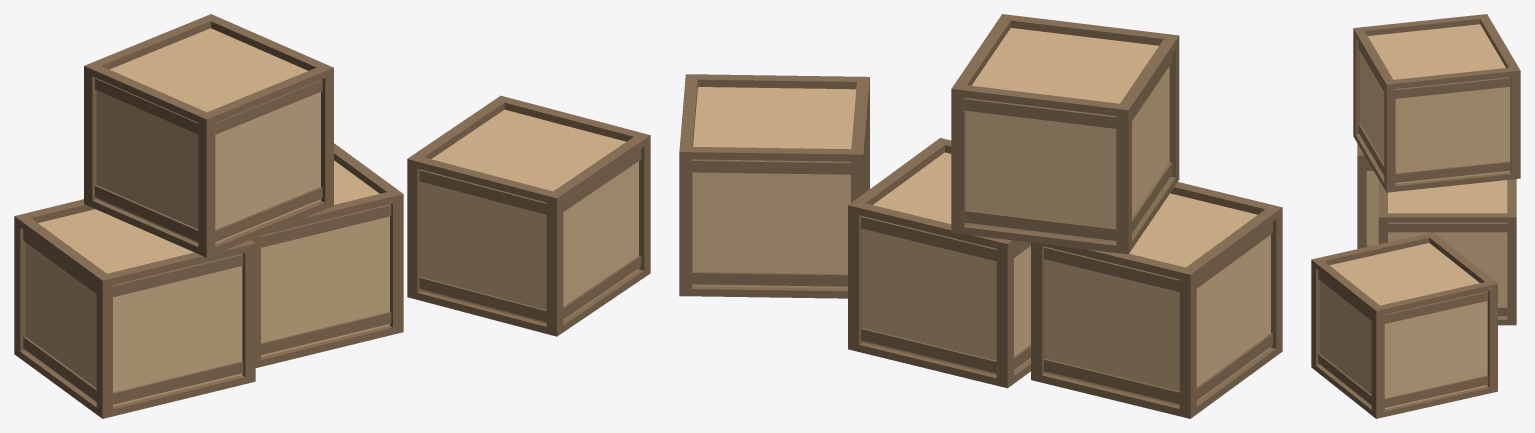
The model's file is grotto_crate_pile_of_4.fbx.
The picture shows the model from 3 angles, left to right: view 1: azimuth 30°, elevation 25°; view 2: azimuth 150°, elevation 25°; view 3: azimuth 270°, elevation 25°; orthographic projection. The views are drawn at different scales.
Visible parts, largest first — view 1: Crate_Wood.002, Crate_Wood.003, Crate_Wood, Crate_Wood.001, Crate_CornerPost_3.002, Crate_CornerPost_3.003, Crate_CornerPost_3, Crate_CornerPost_1.001, Crate_CornerPost_2.003, Crate_CornerPost_1, Crate_CornerPost_1.002, Crate_TopFrame.015 (+37 smaller); view 2: Crate_Wood.002, Crate_Wood, Crate_Wood.003, Crate_Wood.001, Crate_CornerPost_2, Crate_CornerPost_2.001, Crate_CornerPost_2.002, Crate_CornerPost_0.002, Crate_CornerPost_0.001, Crate_TopFrame.013, Crate_TopFrame.012, Crate_Band.028 (+32 smaller); view 3: Crate_Wood.003, Crate_Wood.002, Crate_Wood.001, Crate_CornerPost_1.003, Crate_CornerPost_1.002, Crate_CornerPost_0.002, Crate_TopFrame.006, Crate_Band.014, Crate_TopFrame.010, Crate_CornerPost_0.003, Crate_TopFrame.011, Crate_Band.018 (+24 smaller).
Part boxes in pixels (box(x1,y1,x2,y2)): Crate_Wood.002: box(96, 28, 320, 243); Crate_Wood.003: box(420, 109, 638, 323); Crate_Wood: box(25, 209, 242, 406); Crate_Wood.001: box(261, 160, 389, 356); Crate_CornerPost_3.002: box(198, 112, 215, 257); Crate_CornerPost_3.003: box(546, 191, 563, 336); Crate_CornerPost_3: box(96, 274, 112, 418); Crate_CornerPost_1.001: box(387, 189, 403, 334); Crate_CornerPost_2.003: box(407, 154, 423, 299); Crate_CornerPost_1: box(242, 240, 255, 383); Crate_CornerPost_1.002: box(317, 64, 333, 209); Crate_TopFrame.015: box(417, 157, 552, 202); Crate_Wood.002: box(965, 28, 1169, 242); Crate_Wood: box(1045, 193, 1270, 405); Crate_Wood.003: box(692, 87, 856, 288); Crate_Wood.001: box(862, 152, 1030, 375); Crate_CornerPost_2: box(1179, 267, 1196, 418); Crate_CornerPost_2.001: box(996, 239, 1013, 388); Crate_CornerPost_2.002: box(1116, 103, 1131, 254); Crate_CornerPost_0.002: box(951, 83, 966, 234); Crate_CornerPost_0.001: box(848, 200, 864, 351); Crate_TopFrame.013: box(698, 74, 857, 89); Crate_TopFrame.012: box(692, 147, 851, 161); Crate_Band.028: box(692, 160, 850, 174); Crate_Wood.003: box(1320, 243, 1487, 409); Crate_Wood.002: box(1360, 24, 1510, 184); Crate_Wood.001: box(1388, 180, 1507, 317); Crate_CornerPost_1.003: box(1371, 305, 1384, 418); Crate_CornerPost_1.002: box(1384, 80, 1395, 192); Crate_CornerPost_0.002: box(1509, 66, 1520, 179); Crate_TopFrame.006: box(1388, 213, 1507, 222); Crate_Band.014: box(1388, 223, 1507, 232); Crate_TopFrame.010: box(1394, 67, 1511, 88); Crate_CornerPost_0.003: box(1486, 280, 1497, 393); Crate_TopFrame.011: box(1362, 15, 1480, 35); Crate_Band.018: box(1395, 161, 1510, 182).
Bounding box in the file's own units: 1179 × 556 × 488.
